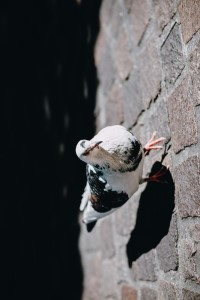pigeon: (73, 123, 172, 233)
